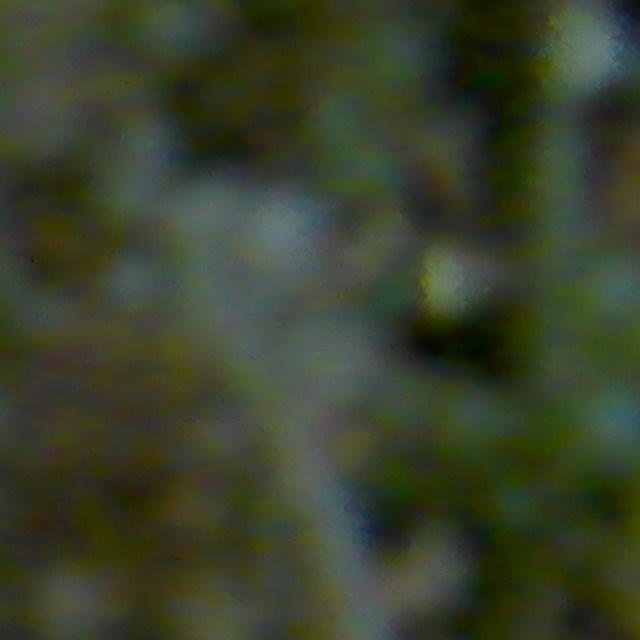SeaGrape: (240, 186, 334, 281), (26, 557, 131, 640), (164, 173, 253, 260), (564, 376, 640, 476), (433, 379, 522, 464), (129, 0, 226, 68), (92, 155, 169, 233), (419, 242, 493, 320), (573, 247, 639, 329), (96, 246, 170, 318), (344, 206, 415, 280), (528, 124, 594, 196), (114, 108, 180, 170)
